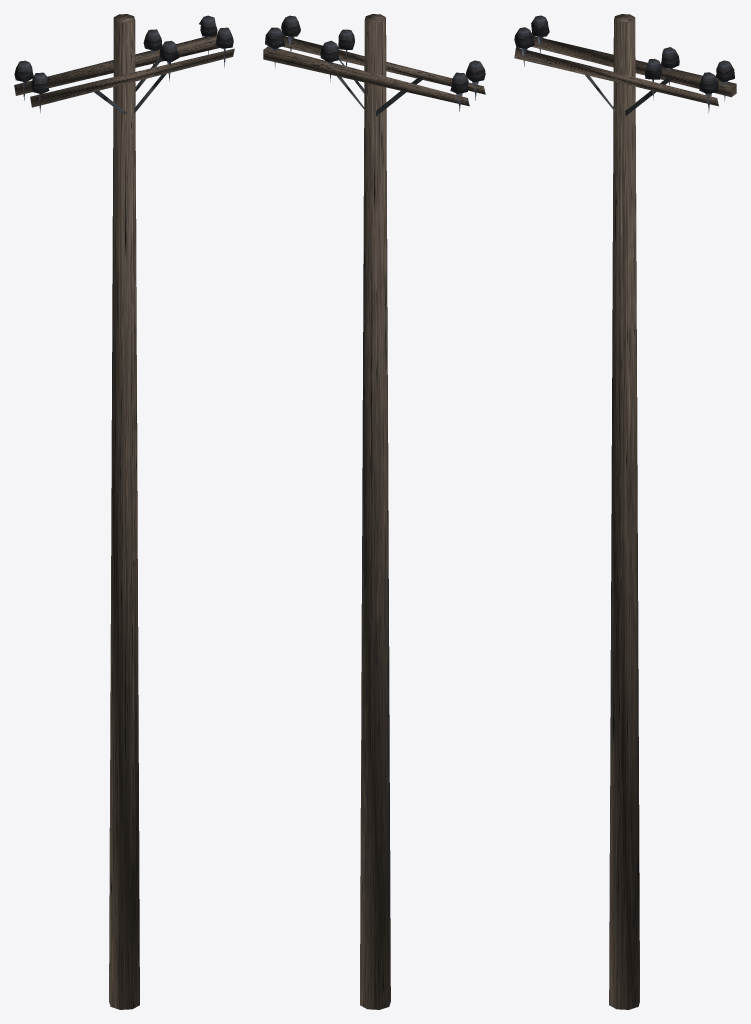
The model's file is pole_wood_d_lod_2.glb.
The picture shows the model from 3 angles, left to right: view 1: azimuth 30°, elevation 25°; view 2: azimuth 150°, elevation 25°; view 3: azimuth 330°, elevation 25°; orthographic projection.
Parts seen in each view (by area): view 1: pole_wood_d_lod_2; view 2: pole_wood_d_lod_2; view 3: pole_wood_d_lod_2.
Boxes of the visible parts, x1=… form: pole_wood_d_lod_2: x1=14, y1=14, x2=234, y2=1009; pole_wood_d_lod_2: x1=263, y1=14, x2=485, y2=1009; pole_wood_d_lod_2: x1=514, y1=14, x2=736, y2=1009.
Size of the model in its own units: 2.2 by 10.2 by 0.4825.
2 materials, 2 textured.
